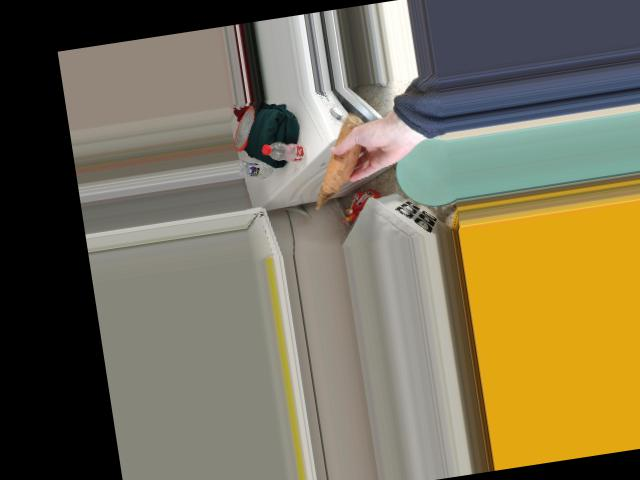sweet_potato: (312, 133, 366, 188)
